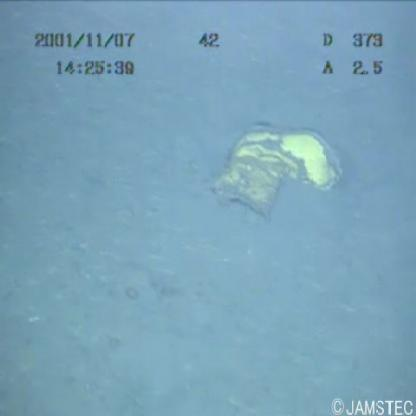Rác: (187, 111, 350, 221)
